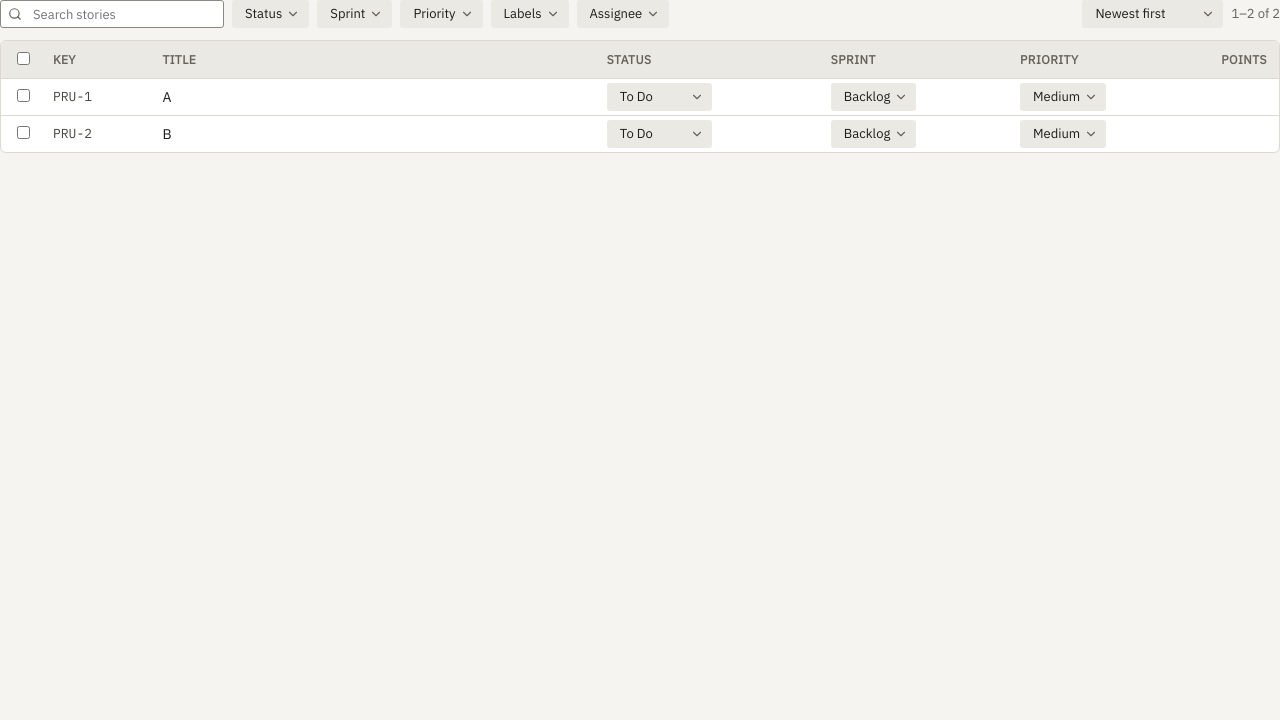
Test: BacklogView › bulk actions › deletes the selected stories after a confirmation and reloads the page
The width and height of the screenshot is (1280, 720).
Click the checkbox named "Select PRU-1". click: x=24, y=96
box: [17, 89, 30, 102]
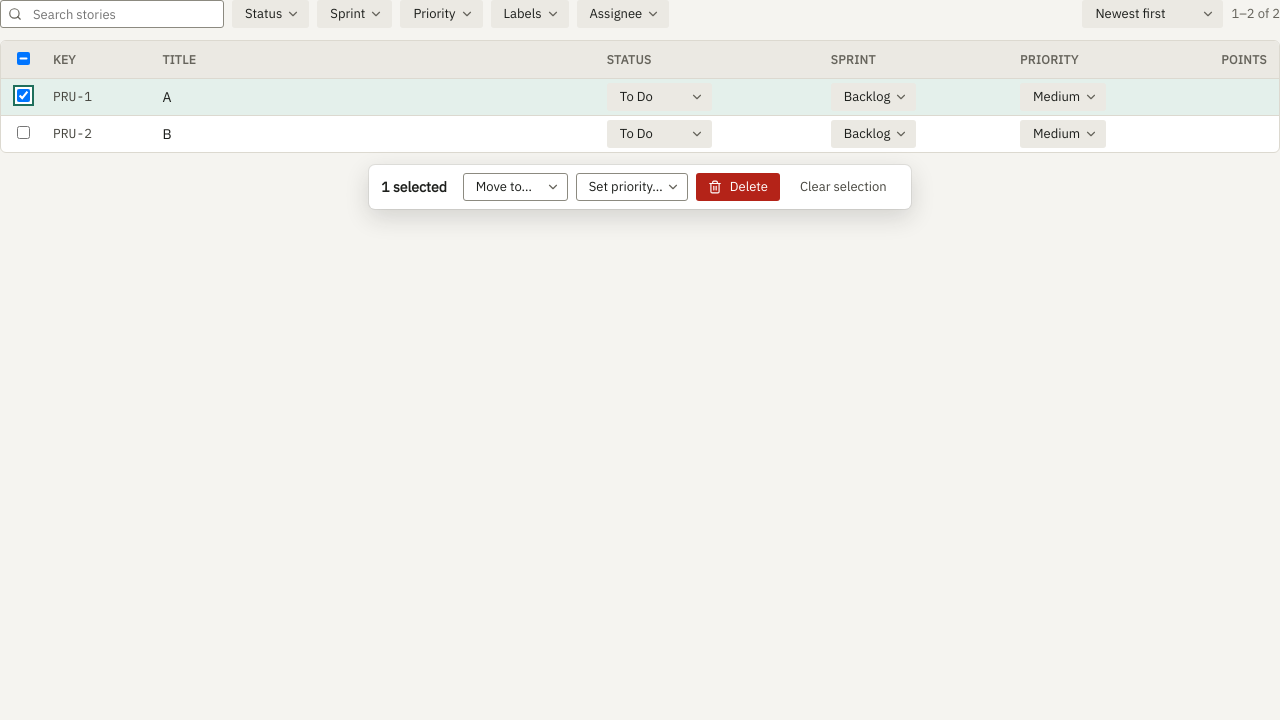
Click the button "Delete". click: x=738, y=187
box: [696, 173, 780, 201]
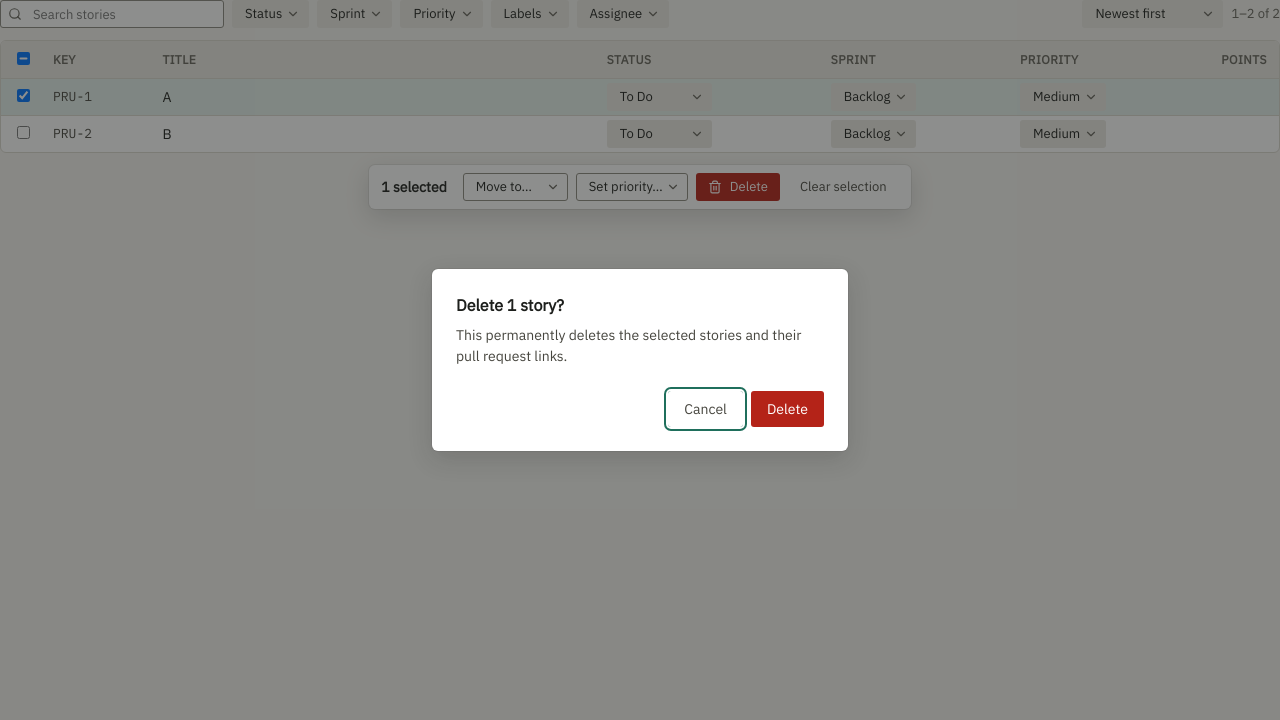
Click the button "Delete". click: x=787, y=409
box: [751, 391, 824, 427]
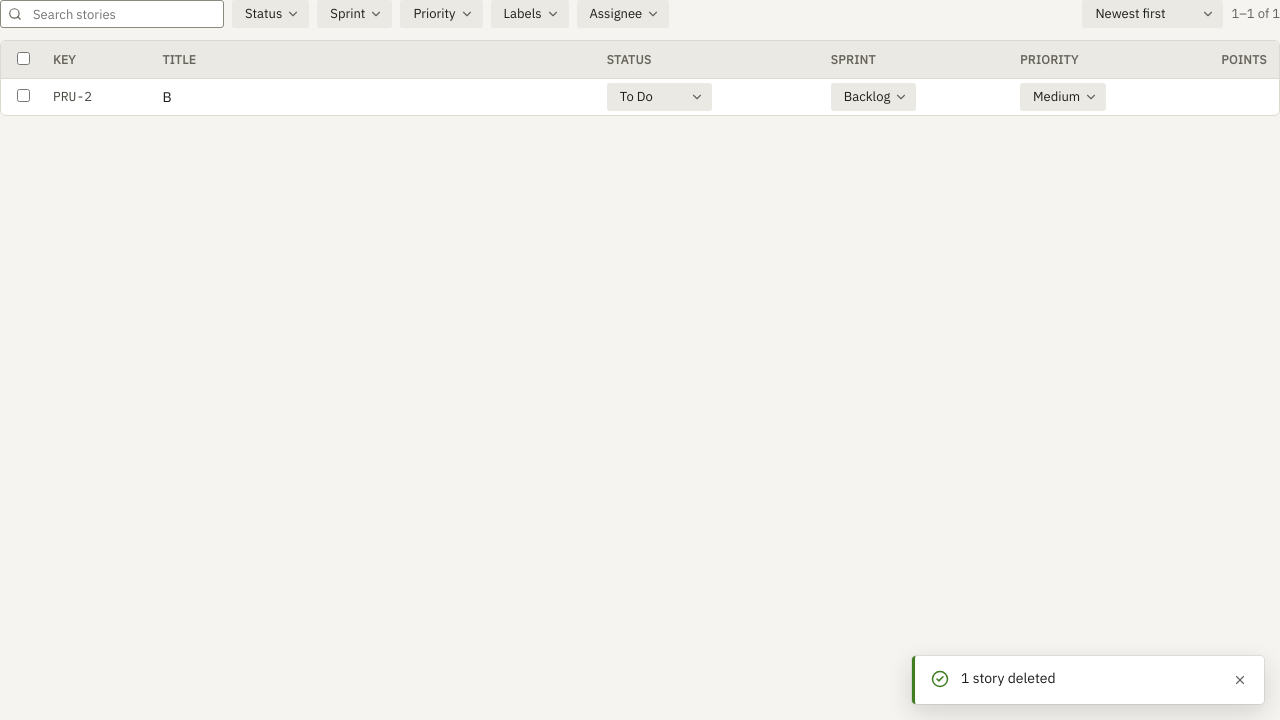
Result: the text "1 story deleted" is shown at [961, 669, 1056, 687]
